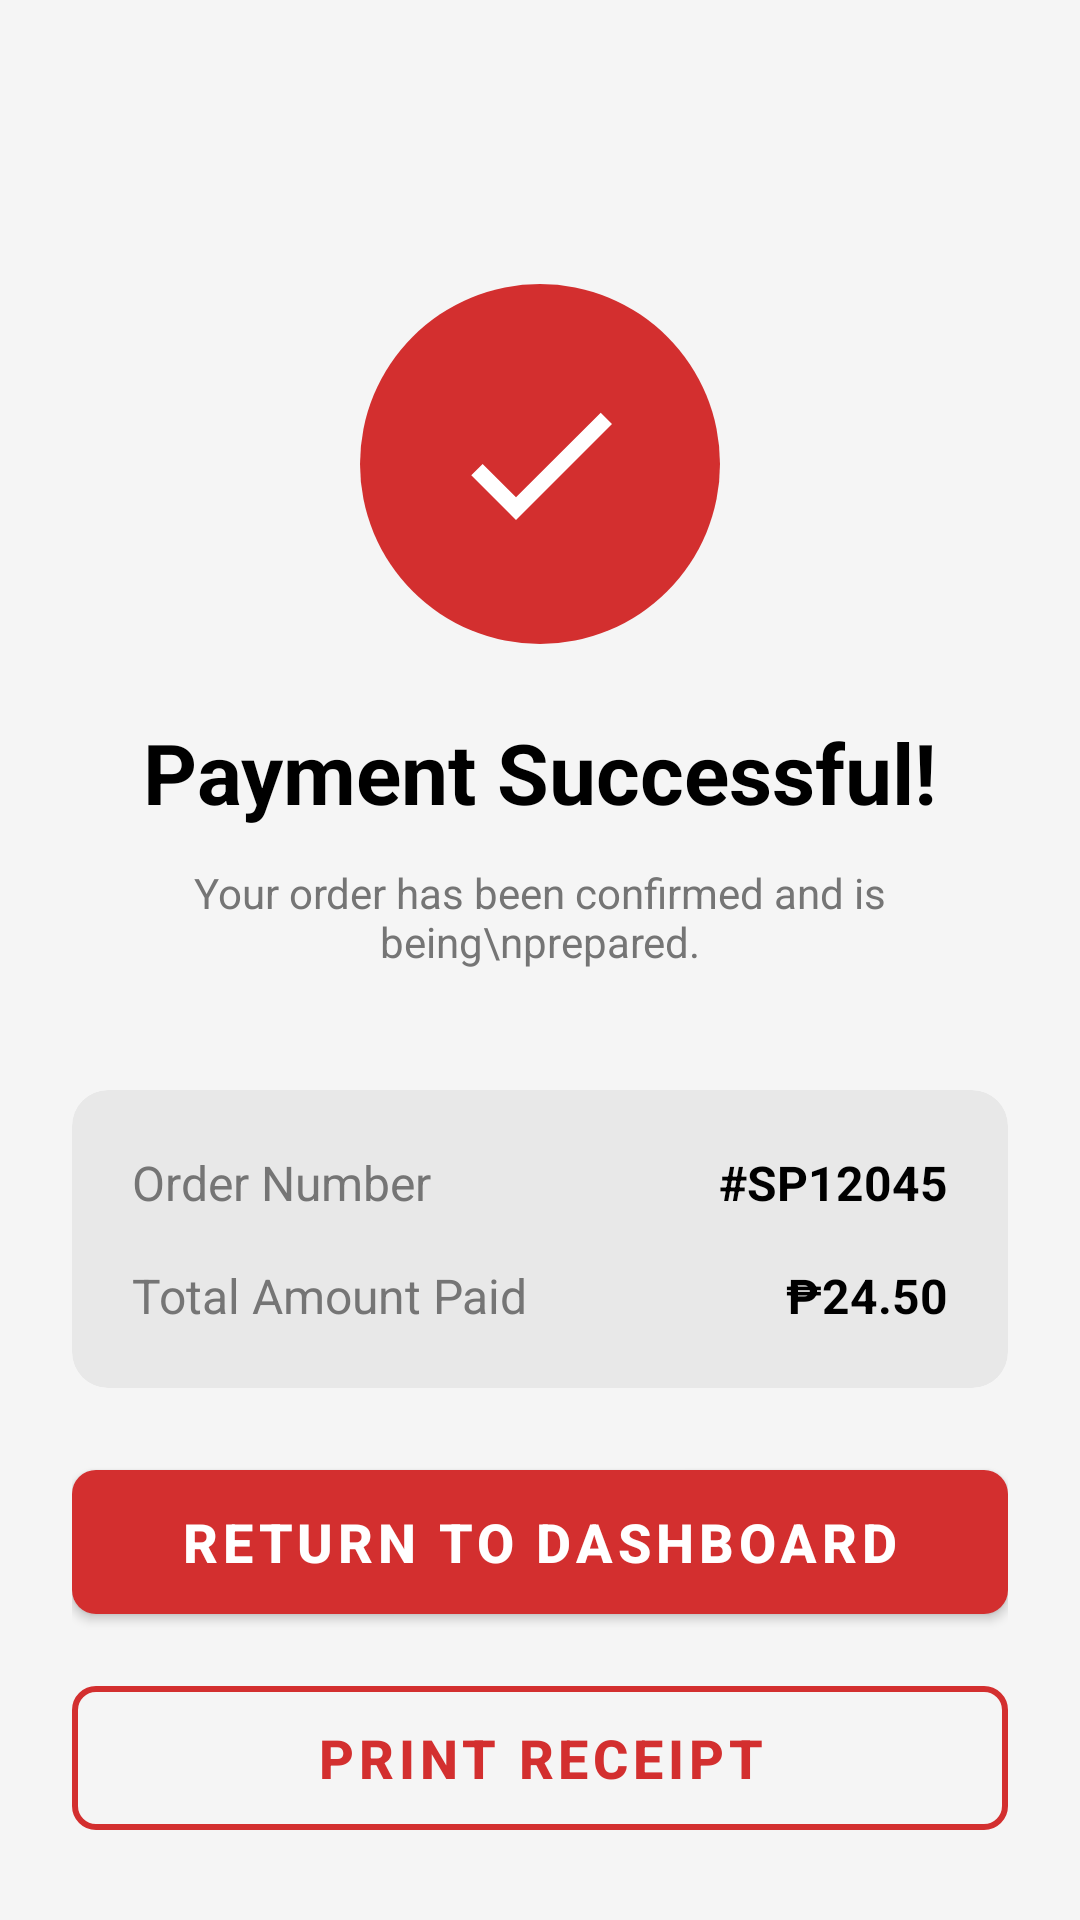

Named icons in this screenshot (1080px x 1920px) and their centers, (x=x, y=y):
checkmark: (x=541, y=466)
